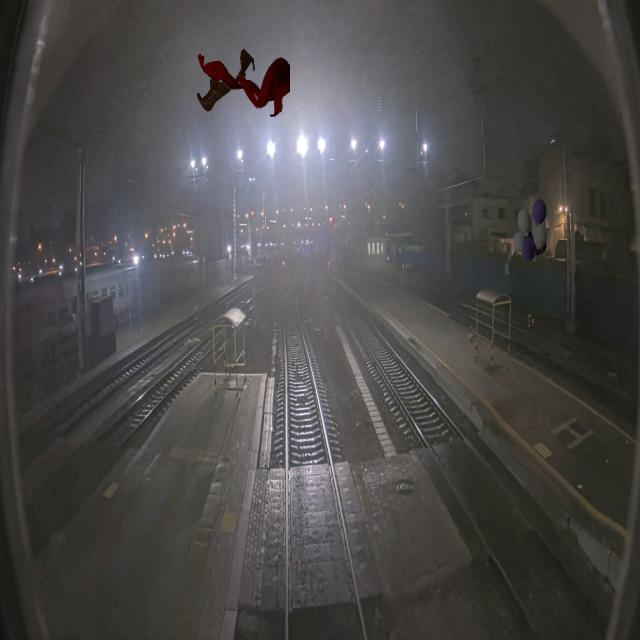balloon: (514, 198, 547, 262)
floating object: (196, 52, 290, 116), (197, 48, 255, 112)
